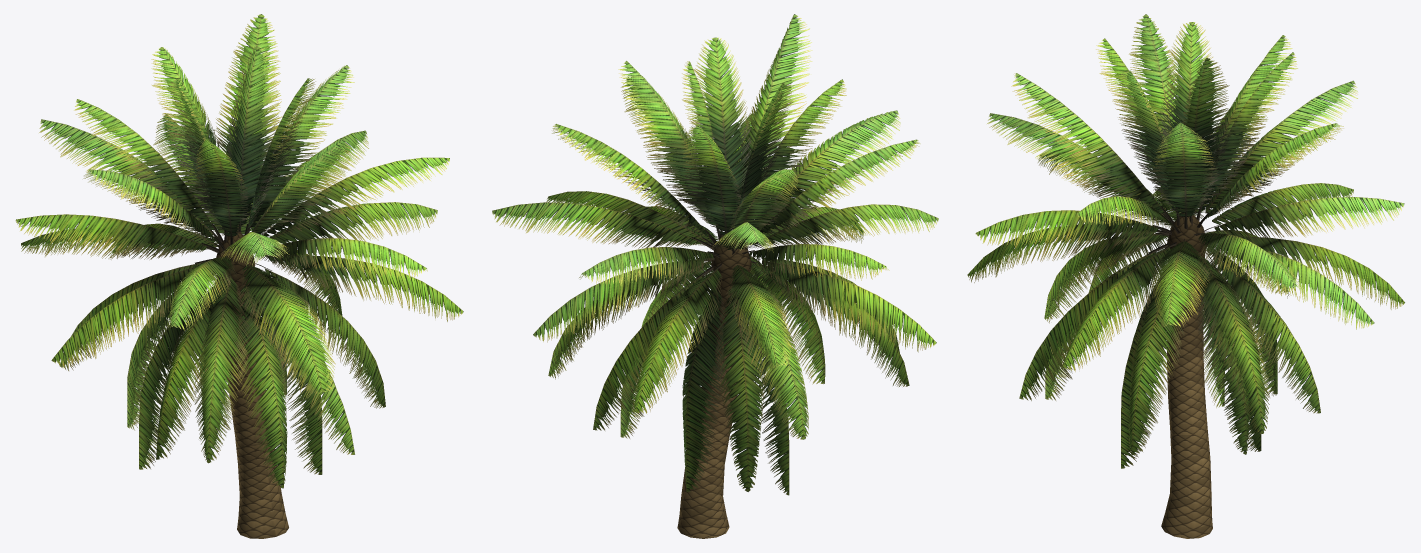
File: mm8_deco_tree05.glb
3 renders of one model, left to right at view 1: azimuth 30°, elevation 25°; view 2: azimuth 150°, elevation 25°; view 3: azimuth 270°, elevation 25°, orthographic.
Visible parts, largest first — view 1: Plant; view 2: Plant; view 3: Plant.
Part boxes in pixels (left/top/right/bottom): Plant: left=15, top=14, right=463, bottom=538; Plant: left=492, top=14, right=938, bottom=538; Plant: left=967, top=14, right=1404, bottom=538.
Size of the model in its own units: 10.18 by 11.9 by 10.02.
2 materials, 2 textured.
